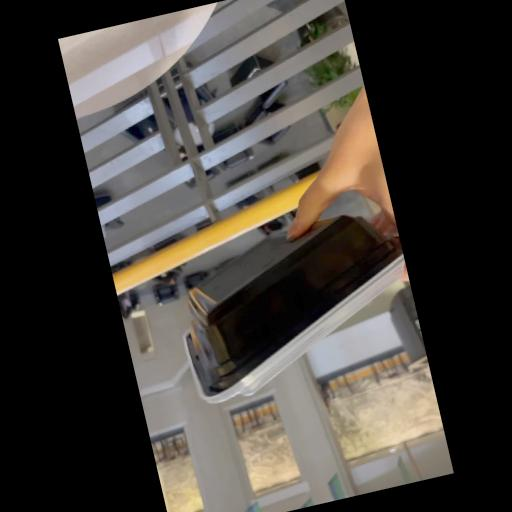rigid_plastic_container: (166, 204, 426, 408)
